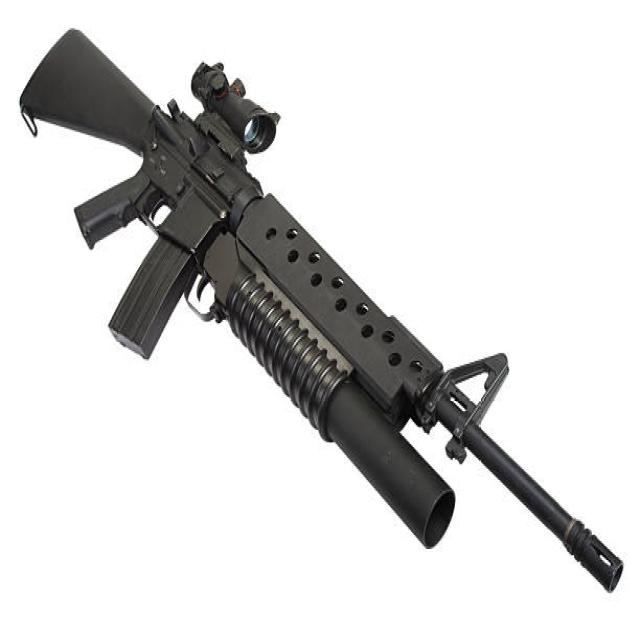rifle: (14, 18, 634, 600)
